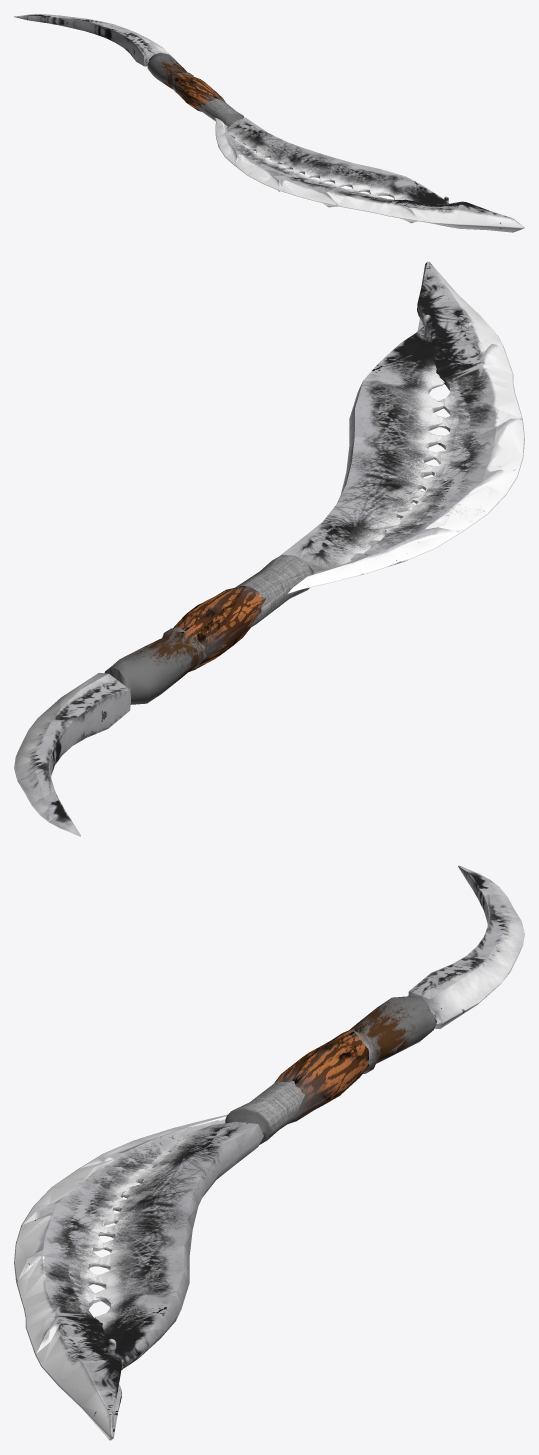
The picture shows the model from 3 angles, top to bottom: view 1: azimuth 30°, elevation 25°; view 2: azimuth 150°, elevation 25°; view 3: azimuth 330°, elevation 25°; orthographic projection. The views are drawn at different scales.
Parts seen in each view (by area): view 1: WP_A_0424; view 2: WP_A_0424; view 3: WP_A_0424.
Part boxes in pixels (bbox=[...]): WP_A_0424: bbox=[14, 14, 524, 232]; WP_A_0424: bbox=[14, 261, 524, 836]; WP_A_0424: bbox=[14, 865, 524, 1440].
Size of the model in its own units: 31.33 by 4.48 by 112.
Materials: 1 (1 with a texture image).
